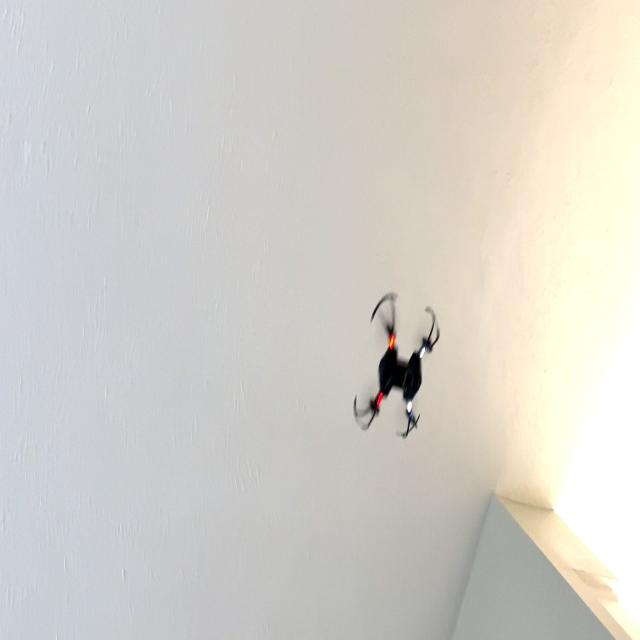drone: (346, 281, 446, 448)
